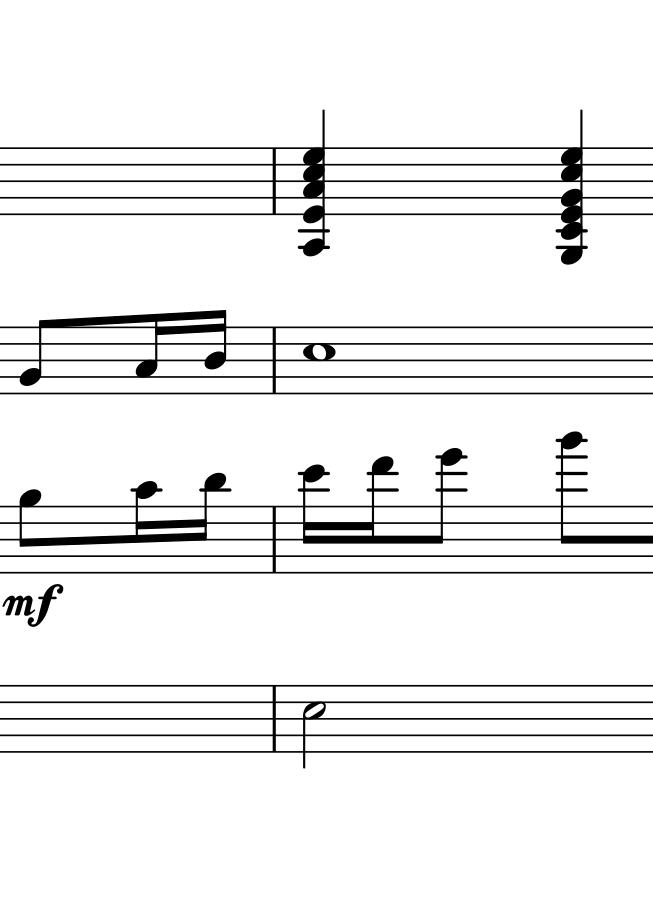16_10: (133, 480, 160, 575)
16_11: (189, 471, 228, 577)
16_12: (299, 464, 328, 576)
16_13: (359, 455, 396, 576)
16_3: (134, 314, 170, 394)
16_4: (204, 308, 228, 398)
1_5: (302, 324, 337, 397)
2_5: (300, 683, 326, 771)
8_14: (425, 448, 467, 577)
8_16: (555, 430, 588, 577)
8_2: (19, 318, 51, 396)
8_9: (18, 484, 43, 574)
Single_barline: (266, 683, 283, 752), (266, 502, 282, 573), (266, 325, 282, 394), (266, 149, 282, 213)
mf: (4, 585, 65, 628)
